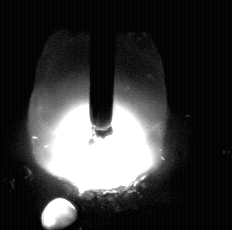arame: (90, 0, 115, 138)
poca: (28, 0, 167, 230)
